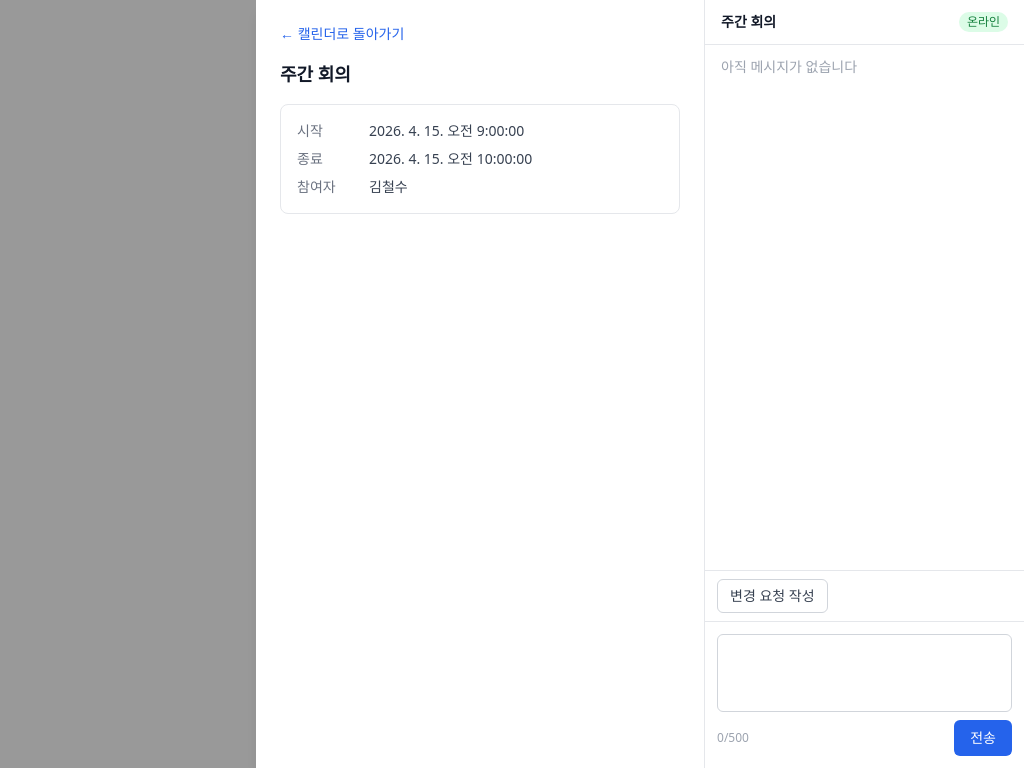
Test: ScheduleChatPanel - 변경 요청 › 변경 요청 폼에서 취소를 클릭하면 모달이 닫히고 패널은 유지된다
Click the button "변경 요청 작성" at (772,596), box [717,579,828,613]
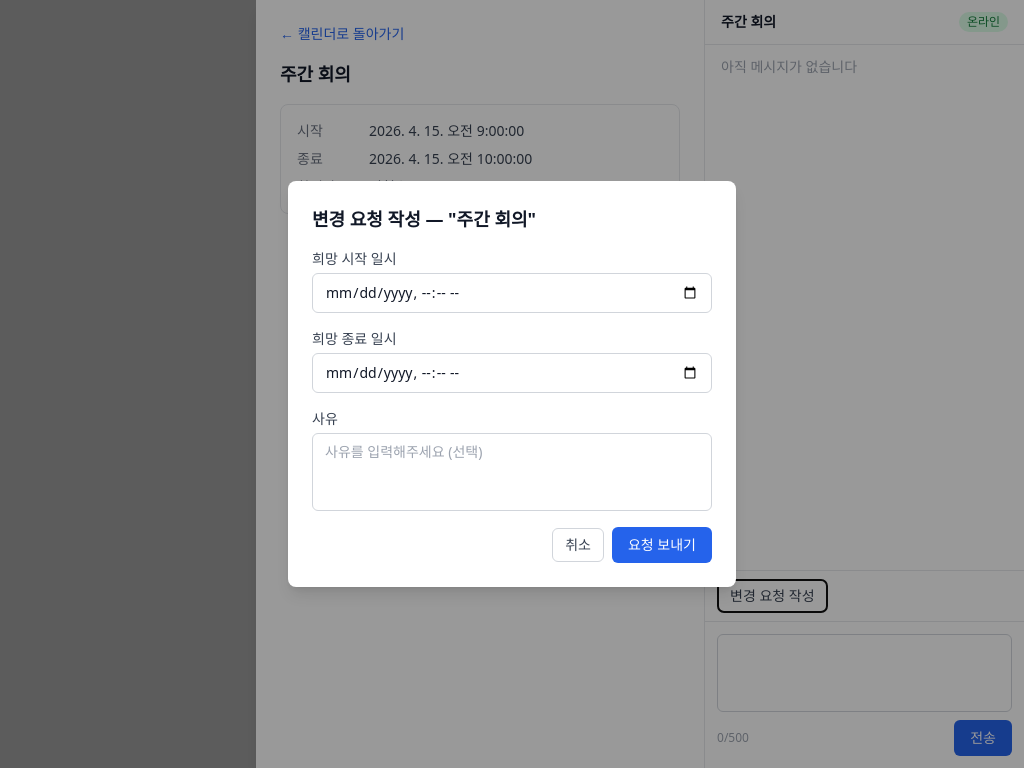
Click the button "취소" at (578,545), box [552,528,604,562]
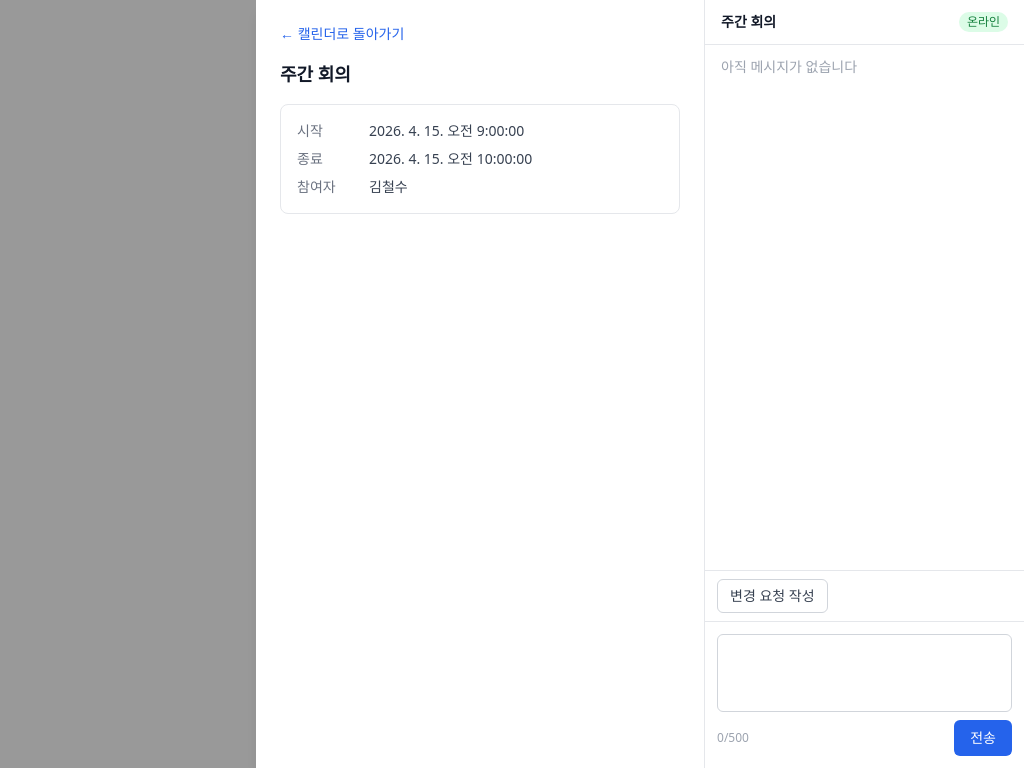
Expected: the button "변경 요청 작성" is shown, [717,579,828,613]
Now the label labelled "희망 시작 일시" is gone
